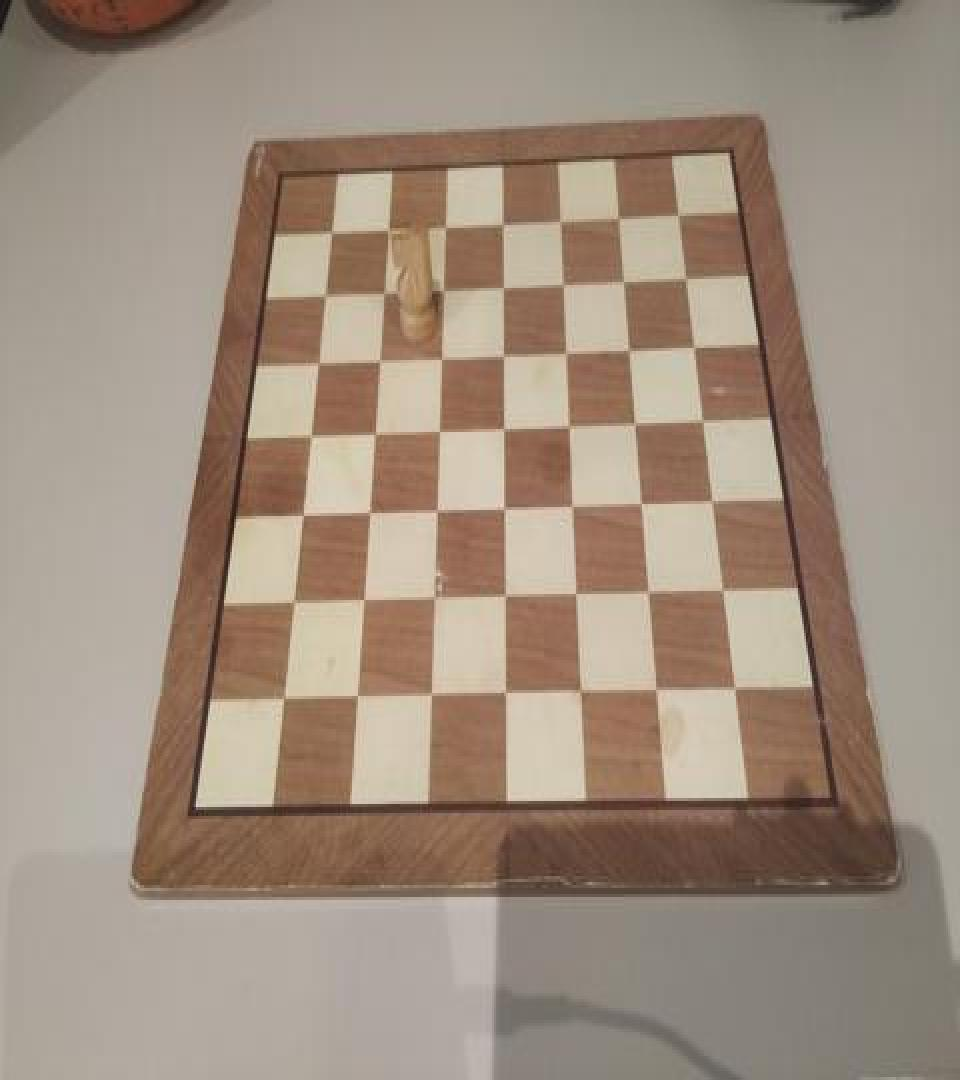xcorner: (670, 199, 690, 230), (272, 686, 292, 716), (347, 684, 367, 714), (498, 680, 518, 710), (574, 678, 594, 708), (651, 675, 671, 705), (282, 590, 302, 620), (425, 584, 445, 614), (497, 582, 517, 612), (570, 579, 590, 609), (643, 578, 663, 608), (716, 574, 736, 604), (292, 501, 312, 531), (360, 498, 380, 528), (428, 495, 448, 525), (496, 494, 516, 524), (566, 490, 586, 520), (635, 488, 655, 518), (705, 486, 725, 516), (300, 420, 320, 450), (365, 417, 385, 447), (430, 416, 450, 446), (496, 412, 516, 442), (562, 410, 582, 440), (628, 406, 648, 436), (695, 404, 715, 434), (308, 346, 328, 376), (370, 344, 390, 374), (433, 340, 453, 370), (495, 339, 515, 369), (559, 336, 579, 366), (622, 333, 642, 363), (686, 330, 706, 360), (315, 279, 335, 309), (375, 276, 395, 306), (435, 273, 455, 303), (495, 270, 515, 300), (556, 267, 576, 297), (617, 264, 637, 294), (678, 261, 698, 291), (322, 216, 342, 246), (379, 213, 399, 243), (437, 212, 457, 242), (495, 208, 515, 238), (553, 206, 573, 236), (611, 202, 631, 232), (422, 683, 442, 712), (728, 674, 748, 703), (353, 587, 373, 616)
